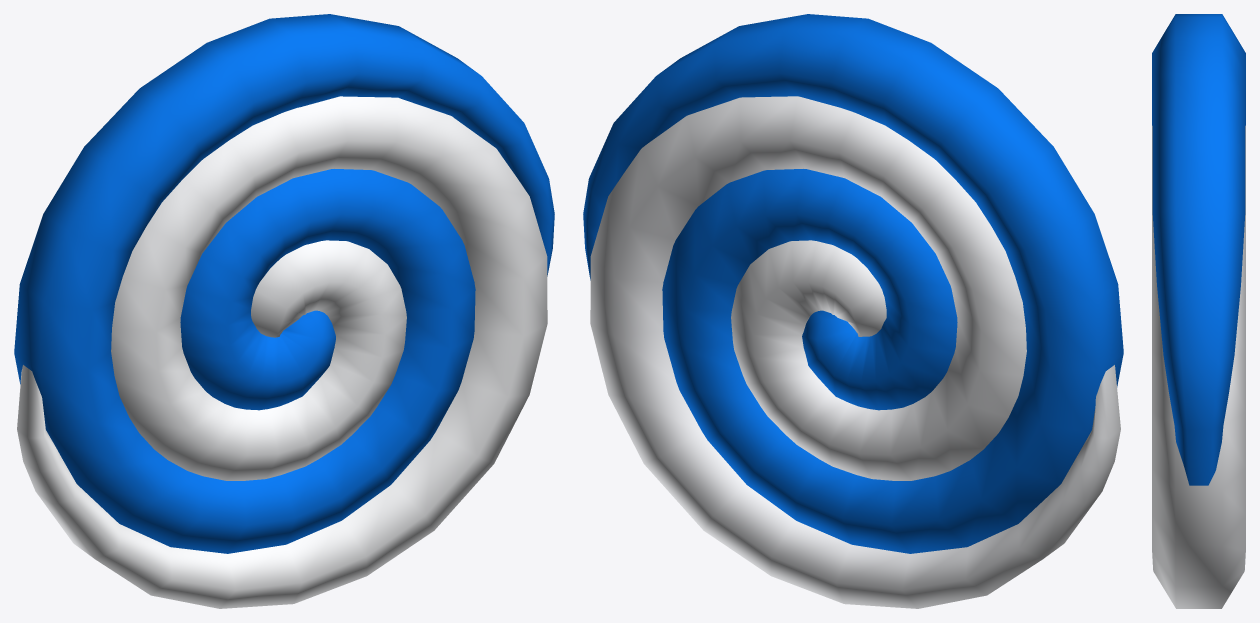
File: lollipop_013.glb
The picture shows the model from 3 angles, left to right: view 1: azimuth 30°, elevation 25°; view 2: azimuth 150°, elevation 25°; view 3: azimuth 270°, elevation 25°; orthographic projection. The views are drawn at different scales.
Parts seen in each view (by area): view 1: lollipop_013; view 2: lollipop_013; view 3: lollipop_013.
Part boxes in pixels (<box>): lollipop_013: <box>14,14,554,608</box>; lollipop_013: <box>583,14,1123,608</box>; lollipop_013: <box>1152,14,1245,608</box>.
Size of the model in its own units: 4.1 by 4.25 by 0.6662.
1 material, 1 textured.
